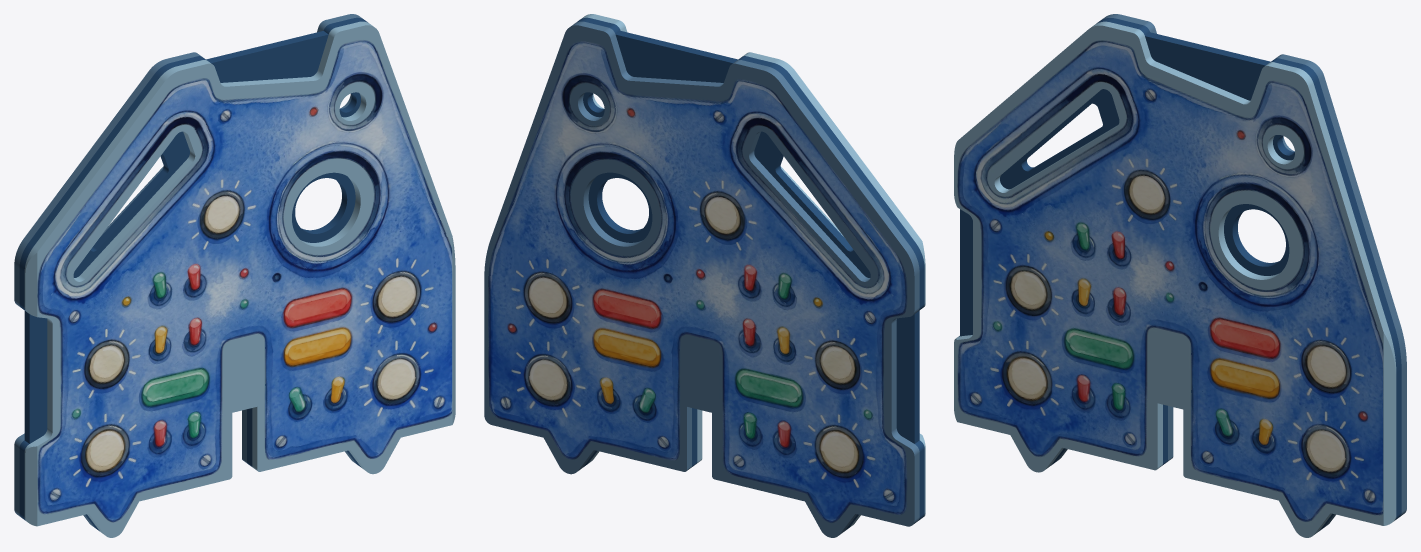
The model's file is narrow-2-top.glb.
The picture shows the model from 3 angles, left to right: view 1: azimuth 30°, elevation 25°; view 2: azimuth 150°, elevation 25°; view 3: azimuth 330°, elevation 25°; orthographic projection. The views are drawn at different scales.
Visible parts, largest first — view 1: narrow-2-top; view 2: narrow-2-top; view 3: narrow-2-top.
Boxes of the visible parts, x1,y1,x2,y2 form: narrow-2-top: (14,14,455,537); narrow-2-top: (484,14,925,537); narrow-2-top: (954,14,1406,537).
Bounding box in the file's own units: 580 × 581 × 36.
5 materials, 2 textured.
